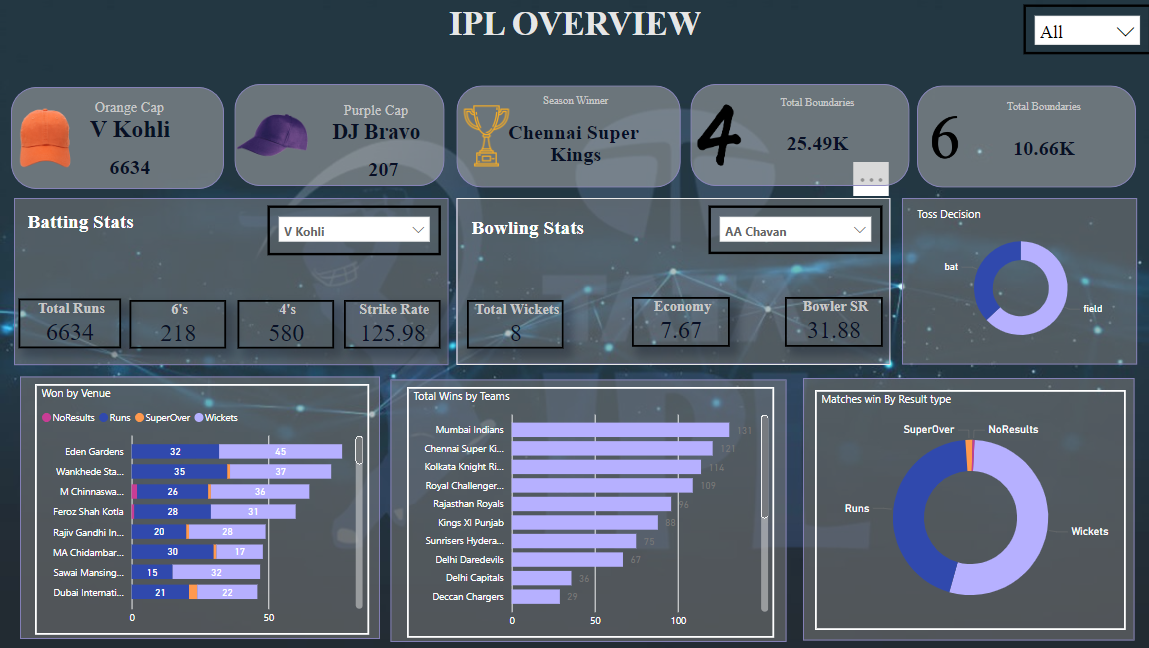

Layout of this report page (visuals, bound fields, positions):
{"tool":"powerbi","page":{"name":"IPL DATA","canvas":[1280,720],"ordinal":0},"visuals":[{"type":"card","title":"Orange Cap","fields":{"Values":["Min(ipl_ball_by_ball_2008_2022.batter)"]},"box":[61.4,110,166.6,48.4],"z":0,"group":"g8"},{"type":"card","title":"Purple Cap","fields":{"Values":["Min(ipl_ball_by_ball_2008_2022.bowler)"]},"box":[335,113,167.8,48.9],"z":0,"group":"g9"},{"type":"shape","box":[16.7,220,482.9,185.7],"z":0,"group":"g10"},{"type":"shape","box":[508.3,220,481.7,185],"z":0},{"type":"shape","box":[1002.5,220,261.2,185],"z":0,"group":"g11"},{"type":"shape","box":[894,419.3,368.3,291.7],"z":0,"group":"g12"},{"type":"textbox","box":[0,0,1280,66.7],"z":1000},{"type":"shape","box":[507.7,95,249.1,113.3],"z":1000,"group":"g4"},{"type":"card","fields":{"Values":["Sum(ipl_ball_by_ball_2008_2022.batsman_run)"]},"box":[61.4,151.3,167.1,67.3],"z":1000,"group":"g8"},{"type":"card","title":"Purple Cap","fields":{"Values":["Sum(ipl_ball_by_ball_2008_2022.iswicket_delivery)"]},"box":[343.2,163,167.1,48.6],"z":1000,"group":"g9"},{"type":"slicer","fields":{"Values":["ipl_ball_by_ball_2008_2022.batter"]},"box":[298.8,228.9,192.5,55],"z":1000,"group":"g10"},{"type":"donutChart","title":"Toss Decision","fields":{"Category":["ipl_matches_2008_2022.toss_decision"],"Y":["CountNonNull(ipl_matches_2008_2022.toss_decision)"]},"box":[1013.7,230,240,163.8],"z":1000,"group":"g11"},{"type":"shape","box":[23.3,418.3,400,291.7],"z":1000,"group":"g13"},{"type":"shape","box":[435,421.7,440,291.7],"z":1000,"group":"g14"},{"type":"donutChart","title":"Matches win By Result type","fields":{"Y":["CountNonNull(ipl_matches_2008_2022.id)"],"Category":["ipl_matches_2008_2022.won_by"]},"box":[907.3,432.2,345,266.7],"z":1000,"group":"g12"},{"type":"slicer","fields":{"Values":["ipl_matches_2008_2022.match_date.Variation.Date Hierarchy.Year"]},"box":[1138.3,5,141.7,55],"z":2000},{"type":"shape","box":[768.3,93.3,243.3,113.3],"z":2000,"group":"g6"},{"type":"textbox","box":[26.3,228.9,163.8,41.2],"z":2000,"group":"g10"},{"type":"shape","box":[1020.4,95,243.3,113.3],"z":3000,"group":"g5"},{"type":"group","id":"g1","title":"Group 3","box":[12.9,96.7,237.1,113.3],"z":3000},{"type":"card","title":"Total Runs","fields":{"Values":["Sum(ipl_ball_by_ball_2008_2022.batsman_run)"]},"box":[22.1,331.2,113.8,55],"z":3000,"group":"g10"},{"type":"group","id":"g2","title":"Group 4","box":[258.7,93.3,236.3,113.3],"z":4000},{"type":"shape","box":[261.7,93.3,233.3,113.3],"z":4000,"group":"g2"},{"type":"card","title":"6''s","fields":{"Values":["CountNonNull(ipl_ball_by_ball_2008_2022.batsman_run)"]},"box":[145.9,332.5,107.5,53.8],"z":4000,"group":"g10"},{"type":"shape","box":[13.4,96.7,236.7,113.3],"z":5000,"group":"g1"},{"type":"card","title":"Economy","fields":{"Values":["DAX.Economy"]},"box":[703.3,330,108.3,55],"z":5000},{"type":"card","title":"4''s","fields":{"Values":["CountNonNull(ipl_ball_by_ball_2008_2022.batsman_run)"]},"box":[265.1,333.9,107.5,53.8],"z":5000,"group":"g10"},{"type":"group","id":"g3","title":"Group 1","box":[495,95,261.7,113.3],"z":6000,"group":"g7"},{"type":"card","title":"Bowler SR","fields":{"Values":["DAX.Bowling sr"]},"box":[873.3,330,108.3,55],"z":6000},{"type":"card","title":"Strike Rate","fields":{"Values":["DAX.Strike Rate"]},"box":[383.8,333.9,107.5,53.8],"z":6000,"group":"g10"},{"type":"group","id":"g4","title":"Group 2","box":[507.7,95,249.1,113.3],"z":6001,"group":"g3"},{"type":"image","box":[12.9,112.9,75.7,80],"z":6001,"group":"g1"},{"type":"image","box":[258.7,102.9,91.1,93.3],"z":6003,"group":"g2"},{"type":"image","box":[735,106.6,132.9,90],"z":6006,"group":"g6"},{"type":"image","box":[1016.7,110.6,73.3,88.3],"z":6007,"group":"g5"},{"type":"card","title":"Season Winner","fields":{"Values":["Min(ipl_matches_2008_2022.winning_team)"]},"box":[533.6,104.4,214.4,92.2],"z":6010,"group":"g7"},{"type":"image","box":[495,112.3,92.9,78.6],"z":6501,"group":"g3"},{"type":"group","id":"g5","title":"Group 5","box":[1016.7,95,248.3,113.3],"z":7000},{"type":"card","title":"Total Wickets","fields":{"Values":["CountNonNull(ipl_ball_by_ball_2008_2022.iswicket_delivery)"]},"box":[520,332.5,107.5,53.8],"z":8000},{"type":"group","id":"g6","title":"Group 6","box":[735,93.3,276.7,113.3],"z":9000},{"type":"card","title":"Total Boundaries","fields":{"Values":["CountNonNull(ipl_ball_by_ball_2008_2022.batsman_run)"]},"box":[801.7,106.7,215,91.7],"z":10000},{"type":"group","id":"g7","title":"Group 7","box":[495,95,261.7,113.3],"z":11000},{"type":"card","title":"Total Boundaries","fields":{"Values":["CountNonNull(ipl_ball_by_ball_2008_2022.batsman_run)"]},"box":[1053.3,111.7,215,91.7],"z":12000},{"type":"group","id":"g8","title":"Group 8","box":[61.4,110,167.1,108.6],"z":13000},{"type":"group","id":"g9","title":"Group 9","box":[335,113,175.3,98.6],"z":14000},{"type":"slicer","fields":{"Values":["ipl_ball_by_ball_2008_2022.bowler"]},"box":[788,228,193,54],"z":15000},{"type":"textbox","box":[520,234.4,163.3,41.1],"z":16000},{"type":"group","id":"g10","title":"Group 10","box":[16.7,220,482.9,185.7],"z":17000},{"type":"group","id":"g11","title":"Group 11","box":[1002.5,220,261.2,185],"z":18000},{"type":"group","id":"g12","title":"Group 11","box":[894,419.3,368.3,291.7],"z":19000},{"type":"group","id":"g13","title":"Group 12","box":[23.3,418.3,400,291.7],"z":20000},{"type":"group","id":"g14","title":"Group 12","box":[435,421.7,440,291.7],"z":21000},{"type":"barChart","title":"Won by Venue","fields":{"Category":["ipl_matches_2008_2022.venue"],"Y":["DAX.Match id count"],"Series":["ipl_matches_2008_2022.won_by"]},"box":[39.6,426.6,371,278.3],"z":21000,"group":"g13"},{"type":"barChart","title":"Total Wins by Teams","fields":{"Category":["ipl_matches_2008_2022.winning_team"],"Y":["CountNonNull(ipl_matches_2008_2022.winning_team)"]},"box":[452.9,430,408.1,278.3],"z":21000,"group":"g14"}]}

Visuals, with their boxes in screenshot pixels (x1, y1, x2, y2), scaled from the page's 1280x720 canvas onto the 1149x648 screenshot:
"Orange Cap" card: (55, 99, 205, 143)
"Purple Cap" card: (301, 102, 451, 146)
shape: (15, 198, 448, 365)
shape: (456, 198, 889, 364)
shape: (900, 198, 1134, 364)
shape: (803, 377, 1133, 640)
textbox: (0, 0, 1148, 60)
shape: (456, 86, 679, 187)
card - Sum(ipl_ball_by_ball_2008_2022.batsman_run): (55, 136, 205, 197)
"Purple Cap" card: (308, 147, 458, 190)
slicer - ipl_ball_by_ball_2008_2022.batter: (268, 206, 441, 256)
"Toss Decision" donutChart: (910, 207, 1125, 354)
shape: (21, 376, 380, 639)
shape: (390, 380, 785, 642)
"Matches win By Result type" donutChart: (814, 389, 1124, 629)
slicer - ipl_matches_2008_2022.match_date.Variation.Date Hierarchy.Year: (1022, 4, 1148, 54)
shape: (690, 84, 908, 186)
textbox: (24, 206, 171, 243)
shape: (916, 86, 1134, 187)
"Group 3" group: (12, 87, 224, 189)
"Total Runs" card: (20, 298, 122, 348)
"Group 4" group: (232, 84, 444, 186)
shape: (235, 84, 444, 186)
"6''s" card: (131, 299, 227, 348)
shape: (12, 87, 225, 189)
"Economy" card: (631, 297, 729, 346)
"4''s" card: (238, 301, 334, 349)
"Group 1" group: (444, 86, 679, 187)
"Bowler SR" card: (784, 297, 881, 346)
"Strike Rate" card: (345, 301, 441, 349)
"Group 2" group: (456, 86, 679, 187)
image: (12, 102, 80, 174)
image: (232, 93, 314, 177)
image: (660, 96, 779, 177)
image: (913, 100, 978, 179)
"Season Winner" card: (479, 94, 671, 177)
image: (444, 101, 528, 172)
"Group 5" group: (913, 86, 1136, 187)
"Total Wickets" card: (467, 299, 563, 348)
"Group 6" group: (660, 84, 908, 186)
"Total Boundaries" card: (720, 96, 913, 179)
"Group 7" group: (444, 86, 679, 187)
"Total Boundaries" card: (946, 101, 1138, 183)
"Group 8" group: (55, 99, 205, 197)
"Group 9" group: (301, 102, 458, 190)
slicer - ipl_ball_by_ball_2008_2022.bowler: (707, 205, 881, 254)
textbox: (467, 211, 613, 248)
"Group 10" group: (15, 198, 448, 365)
"Group 11" group: (900, 198, 1134, 364)
"Group 11" group: (803, 377, 1133, 640)
"Group 12" group: (21, 376, 380, 639)
"Group 12" group: (390, 380, 785, 642)
"Won by Venue" barChart: (36, 384, 369, 634)
"Total Wins by Teams" barChart: (407, 387, 773, 637)
